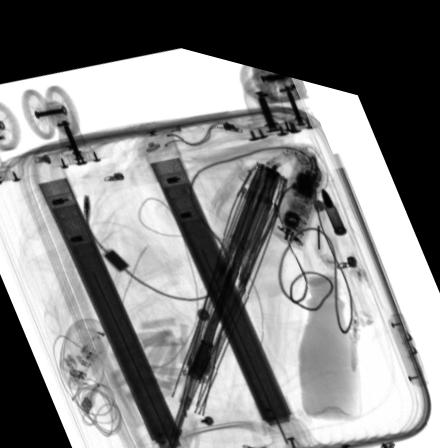Bullet: (321, 169, 347, 218)
